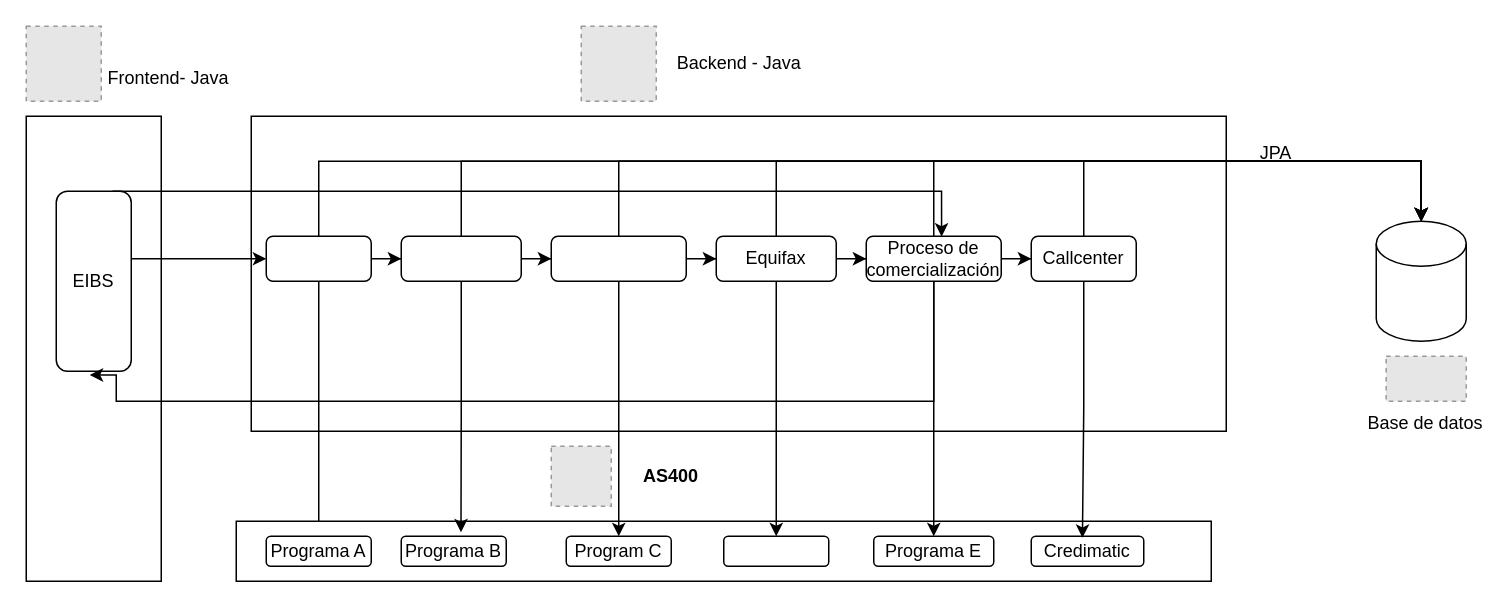
Some shapes in this 1512 by 608 pixel diagram are drawn without their labels. Grey dashed boxes stand in for pictures. The shapes that lost their labels are listed below. From the top down, each one's centre as x and y in pixels, then its label:
At pixel 318 258: "Listas Reservadas".
At pixel 460 258: "Databook".
At pixel 618 258: "Filtros y perfiles".
At pixel 775 550: "Programa D".
